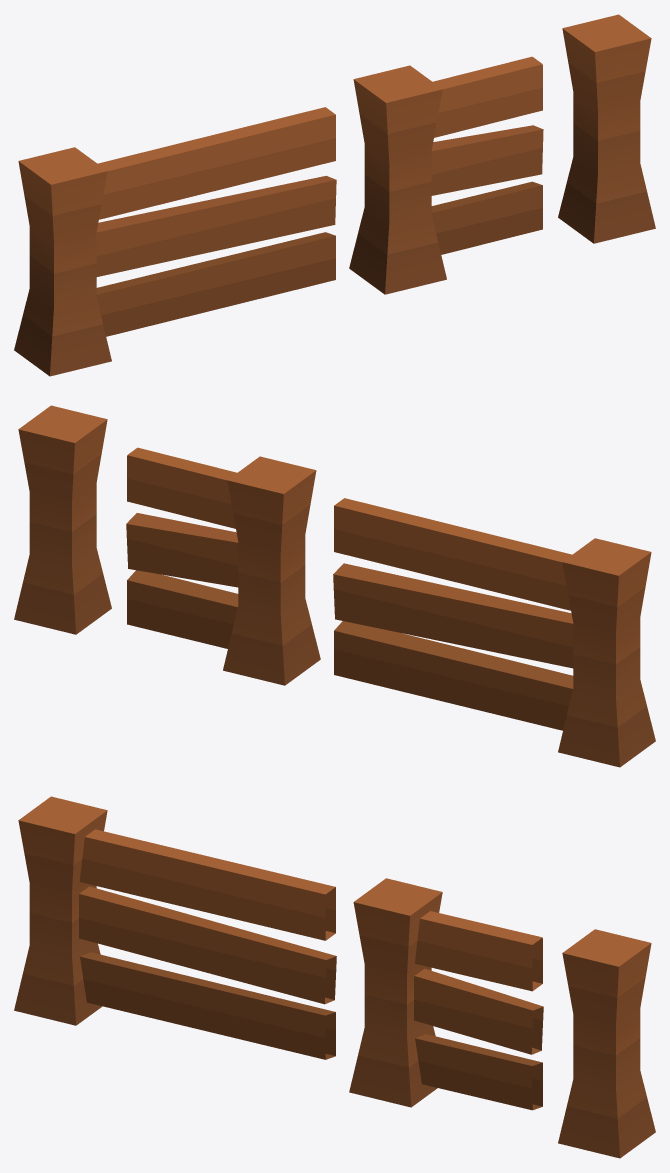
File: fence.fbx
3 views of the same model, one above another, from view 1: azimuth 30°, elevation 25°; view 2: azimuth 150°, elevation 25°; view 3: azimuth 330°, elevation 25° (orthographic).
Parts seen in each view (by area): view 1: Cube.011, Cube.001, Cube.002; view 2: Cube.011, Cube.001, Cube.002; view 3: Cube.011, Cube.001, Cube.002.
Part boxes in pixels (left/top/right/bottom): Cube.011: left=14, top=107, right=336, bottom=376; Cube.001: left=349, top=56, right=543, bottom=294; Cube.002: left=558, top=14, right=655, bottom=243; Cube.011: left=333, top=498, right=655, bottom=767; Cube.001: left=126, top=447, right=320, bottom=685; Cube.002: left=14, top=405, right=111, bottom=634; Cube.011: left=14, top=796, right=336, bottom=1059; Cube.001: left=349, top=878, right=543, bottom=1110; Cube.002: left=558, top=929, right=655, bottom=1158.
Size of the model in its own units: 468 by 140 by 47.99.
